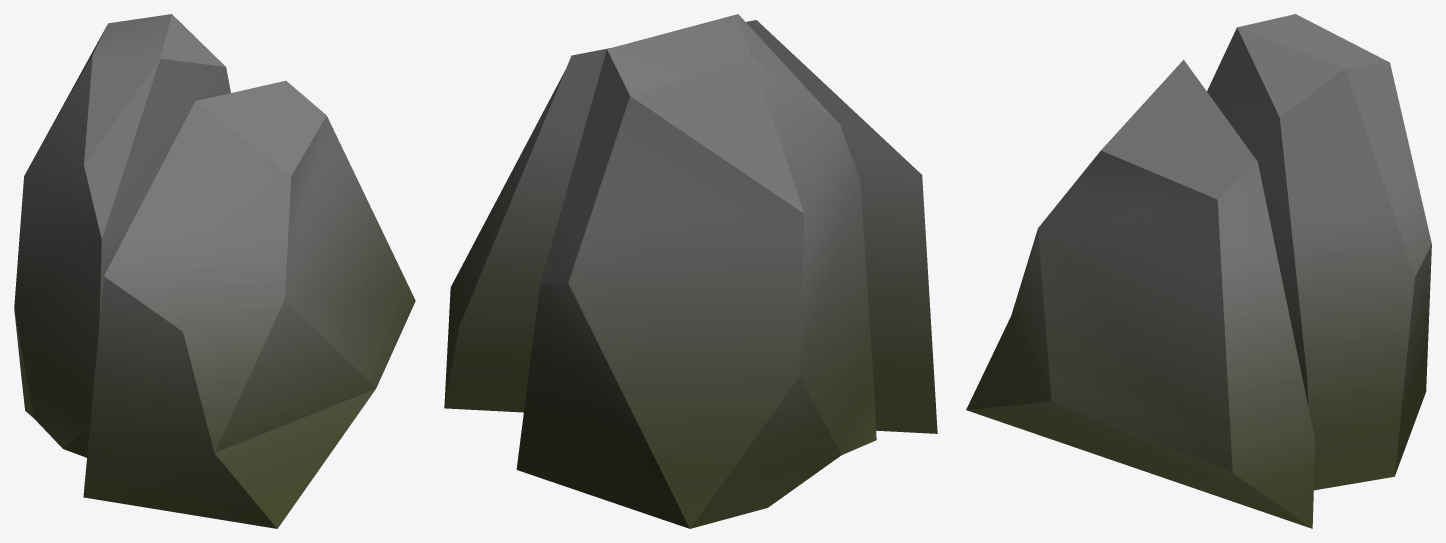
Rendered from ea_environment_stone_moss_01b_pre__16__lev1.glb.
The picture shows the model from 3 angles, left to right: view 1: azimuth 30°, elevation 25°; view 2: azimuth 150°, elevation 25°; view 3: azimuth 270°, elevation 25°; orthographic projection. The views are drawn at different scales.
Parts seen in each view (by area): view 1: ea_environment_stone_moss_01b_pre__16__lev1; view 2: ea_environment_stone_moss_01b_pre__16__lev1; view 3: ea_environment_stone_moss_01b_pre__16__lev1.
Boxes of the visible parts, x1,y1,x2,y2 form: ea_environment_stone_moss_01b_pre__16__lev1: (14, 14, 415, 528); ea_environment_stone_moss_01b_pre__16__lev1: (444, 14, 937, 528); ea_environment_stone_moss_01b_pre__16__lev1: (966, 14, 1431, 528).
Bounding box in the file's own units: 1.63 × 1.53 × 1.66.
1 material, 1 textured.
